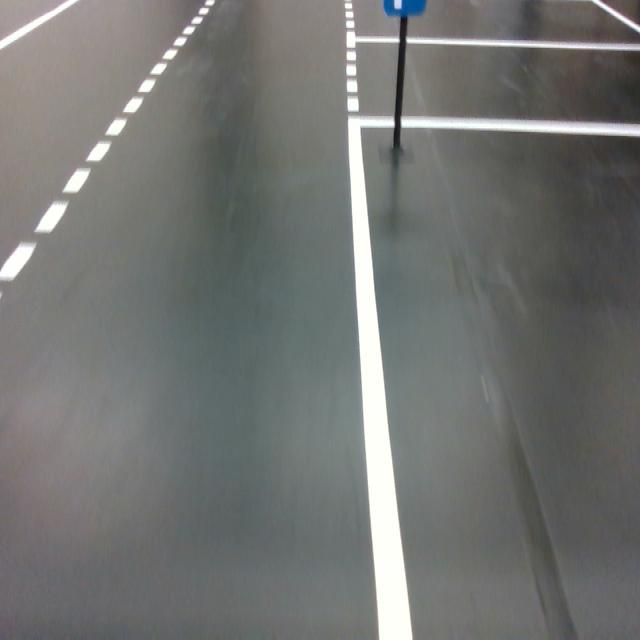parking-sign: (382, 0, 428, 18)
